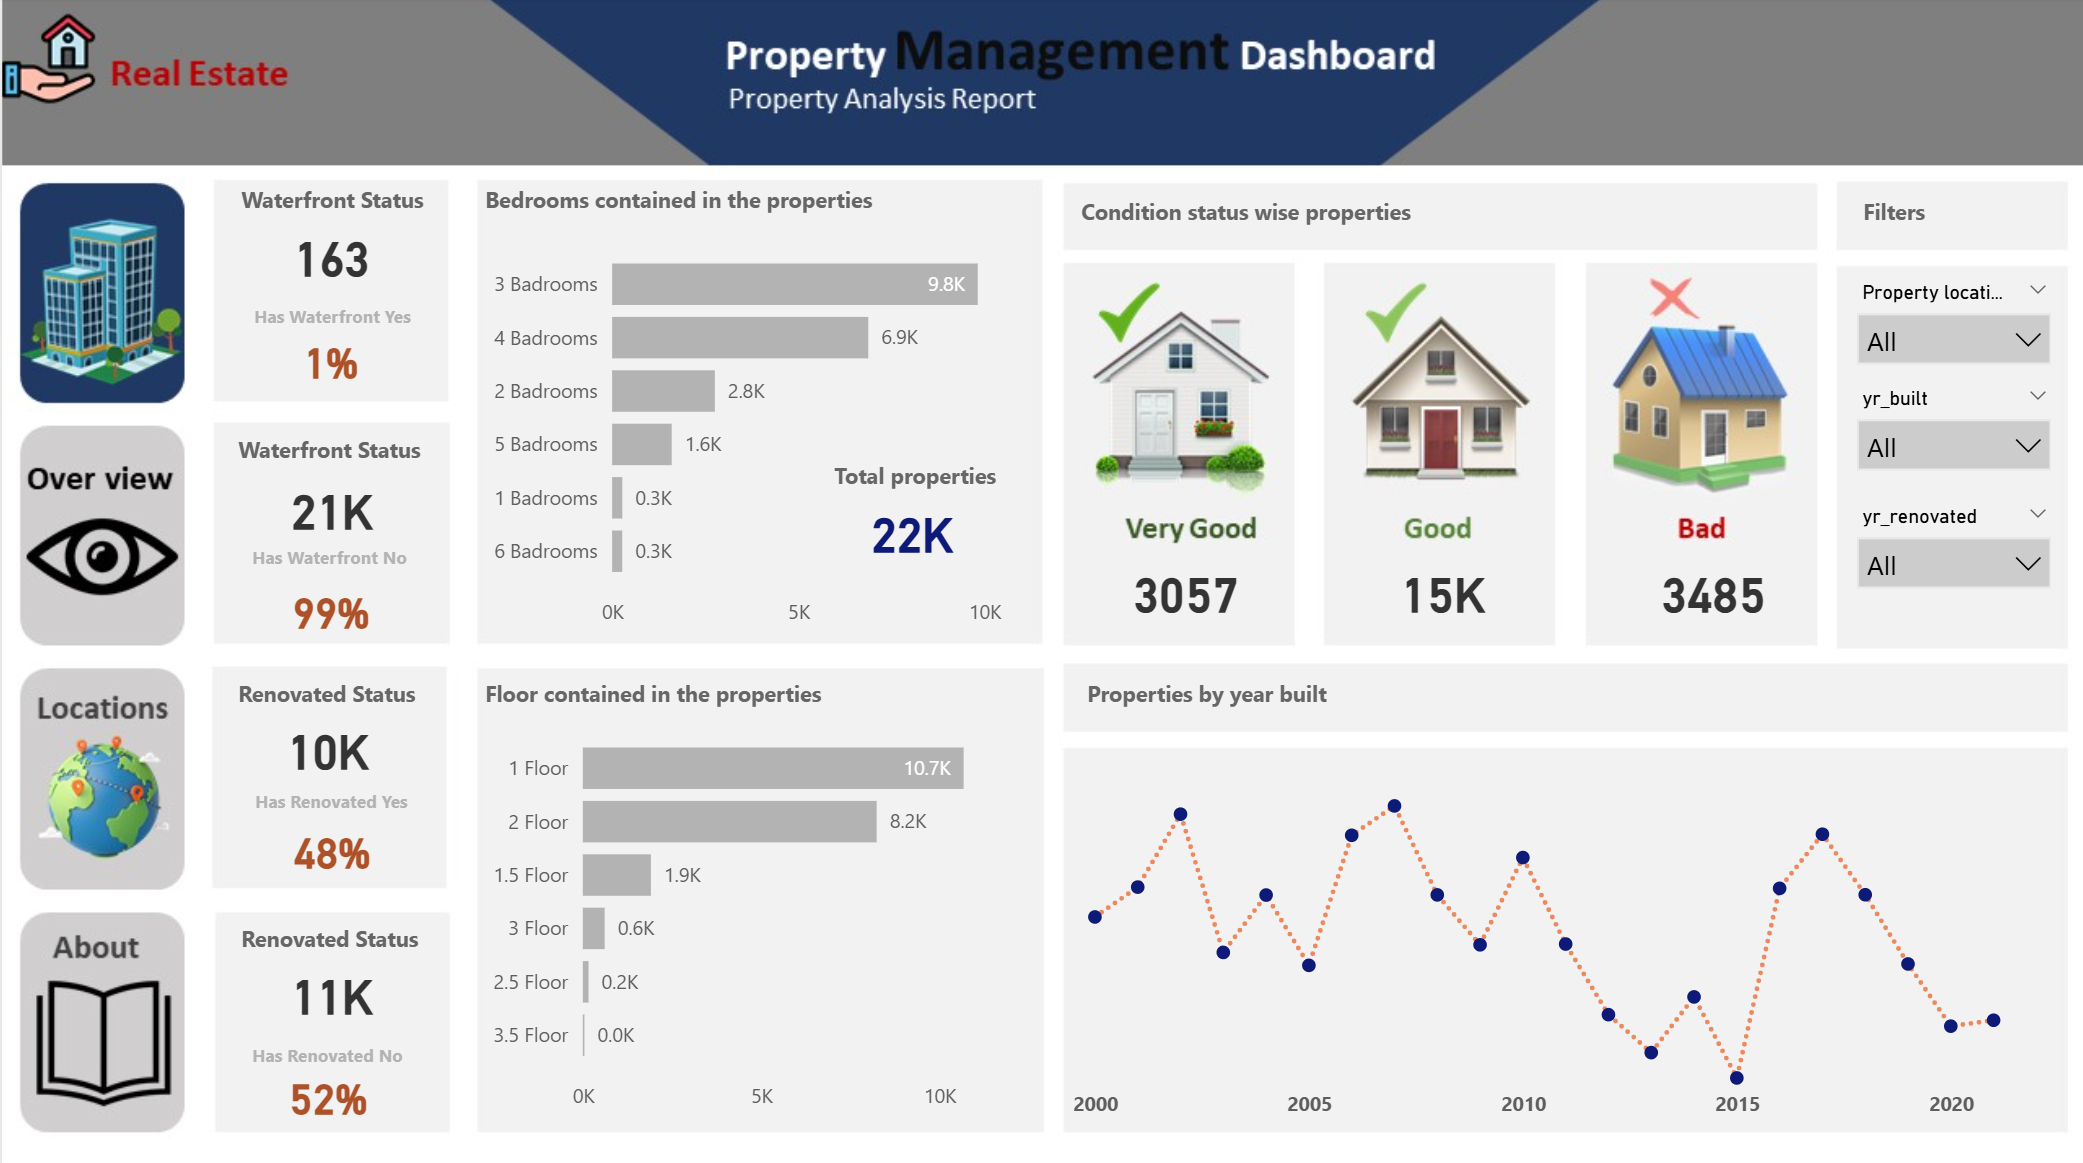

What the dashboard file says about the page in this screenshot:
{"tool":"powerbi","page":{"name":"Page 1","canvas":[1280,720],"ordinal":0},"visuals":[{"type":"textbox","box":[142,109.9,125,26.8],"z":0},{"type":"textbox","box":[149.8,180.4,109.2,32.6],"z":1000},{"type":"textbox","box":[140,263.7,129.6,30.8],"z":2000},{"type":"textbox","box":[148.4,328.8,109.2,32.6],"z":3000},{"type":"textbox","box":[140,413.6,125,26.8],"z":4000},{"type":"textbox","box":[142,564.1,125,26.8],"z":5000},{"type":"textbox","box":[150.4,478.6,109.2,28.6],"z":6000},{"type":"textbox","box":[148.4,634.3,109.2,32.6],"z":7000},{"type":"textbox","box":[291.9,109.9,250,26.8],"z":8000},{"type":"textbox","box":[291.9,413.6,250,26.8],"z":9000},{"type":"textbox","box":[657.7,117.1,216.6,26.8],"z":10000},{"type":"textbox","box":[657.7,413.6,189.1,26.8],"z":11000},{"type":"textbox","box":[506.5,279.4,123.7,26.8],"z":12000},{"type":"barChart","fields":{"Category":["Dim_Badrooms.Badroom Status"],"Y":["Table.Total Properties"]},"box":[291.9,136.8,348.1,258.5],"z":13000},{"type":"card","fields":{"Values":["Table.Total Properties"]},"box":[513,301.7,92.3,53.7],"z":14000},{"type":"barChart","fields":{"Y":["Table.Total Properties"],"Category":["Dim_Floor.Floor Status"]},"box":[291.9,434.5,348.1,258.5],"z":15000},{"type":"card","fields":{"Values":["Table.Waterfront Status Yes"]},"box":[164.3,136.8,77.2,43.8],"z":16000},{"type":"card","fields":{"Values":["Table.Waterfront Status No"]},"box":[164.3,292.5,77.2,43.8],"z":17000},{"type":"card","fields":{"Values":["Table.% Waterfront Status Yes"]},"box":[170.4,206.3,63.9,34.6],"z":18000},{"type":"card","fields":{"Values":["Table.% Waterfront Status No"]},"box":[170.4,360.1,63.9,34.6],"z":19000},{"type":"card","fields":{"Values":["Table.Renovated Status Yes"]},"box":[161.7,440,77.2,43.9],"z":20000},{"type":"card","fields":{"Values":["Table.Renovated Status No"]},"box":[163.7,590.4,77.2,43.9],"z":21000},{"type":"card","fields":{"Values":["Table.% Renovated Status Yes"]},"box":[171.1,507.2,63.9,34.6],"z":22000},{"type":"card","fields":{"Values":["Table.% Renovated Status No"]},"box":[168.4,658.3,63.9,34.6],"z":23000},{"type":"lineChart","fields":{"Category":["Fact Table.yr_built"],"Y":["Table.Total Properties"]},"box":[652.3,461.9,616.4,235.6],"z":24000},{"type":"slicer","fields":{"Values":["Dim_Location.Property location"]},"box":[1129.6,169.1,139.1,58.6],"z":25000},{"type":"slicer","fields":{"Values":["Fact Table.yr_built"]},"box":[1129.6,234.3,139.1,58.6],"z":26000},{"type":"slicer","fields":{"Values":["Fact Table.yr_renovated"]},"box":[1129.6,306.9,139.1,58.6],"z":27000},{"type":"textbox","box":[1138.2,117.2,61.2,26.6],"z":28000},{"type":"card","fields":{"Values":["Table.Condition Status Very Good"]},"box":[688.9,343.5,77.2,43.9],"z":29000},{"type":"card","fields":{"Values":["Table.Condition Status Good"]},"box":[846.7,343.5,77.2,43.9],"z":30000},{"type":"card","fields":{"Values":["Table.Condition Status Bad"]},"box":[1013.1,343.5,77.2,43.9],"z":31000}]}

Visuals, with their boxes in screenshot pixels (x1, y1, x2, y2), scaled from the page's 1280x720 canvas onto the 2083x1163 screenshot:
textbox: box(231, 178, 435, 221)
textbox: box(244, 291, 421, 344)
textbox: box(228, 426, 439, 476)
textbox: box(241, 531, 419, 584)
textbox: box(228, 668, 431, 711)
textbox: box(231, 911, 435, 954)
textbox: box(245, 773, 422, 819)
textbox: box(241, 1025, 419, 1077)
textbox: box(475, 178, 882, 221)
textbox: box(475, 668, 882, 711)
textbox: box(1070, 189, 1423, 232)
textbox: box(1070, 668, 1378, 711)
textbox: box(824, 451, 1026, 495)
barChart - Dim_Badrooms.Badroom Status x Table.Total Properties: box(475, 221, 1042, 639)
card - Table.Total Properties: box(835, 487, 985, 574)
barChart - Table.Total Properties x Dim_Floor.Floor Status: box(475, 702, 1042, 1119)
card - Table.Waterfront Status Yes: box(267, 221, 393, 292)
card - Table.Waterfront Status No: box(267, 472, 393, 543)
card - Table.% Waterfront Status Yes: box(277, 333, 381, 389)
card - Table.% Waterfront Status No: box(277, 582, 381, 638)
card - Table.Renovated Status Yes: box(263, 711, 389, 782)
card - Table.Renovated Status No: box(266, 954, 392, 1025)
card - Table.% Renovated Status Yes: box(278, 819, 382, 875)
card - Table.% Renovated Status No: box(274, 1063, 378, 1119)
lineChart - Fact Table.yr_built x Table.Total Properties: box(1062, 746, 2065, 1127)
slicer - Dim_Location.Property location: box(1838, 273, 2065, 368)
slicer - Fact Table.yr_built: box(1838, 378, 2065, 473)
slicer - Fact Table.yr_renovated: box(1838, 496, 2065, 590)
textbox: box(1852, 189, 1952, 232)
card - Table.Condition Status Very Good: box(1121, 555, 1247, 626)
card - Table.Condition Status Good: box(1378, 555, 1504, 626)
card - Table.Condition Status Bad: box(1649, 555, 1774, 626)
